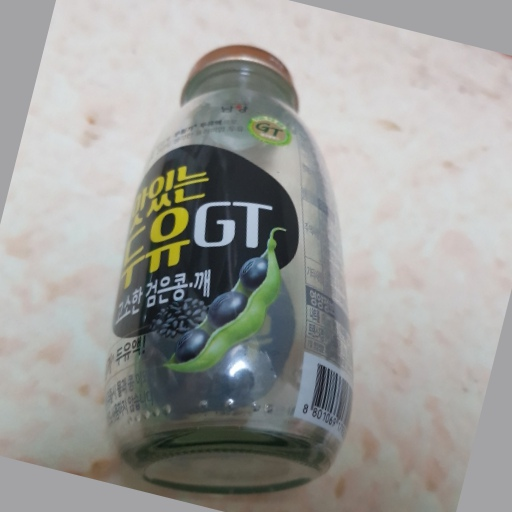Glass_4: (108, 45, 359, 488)
